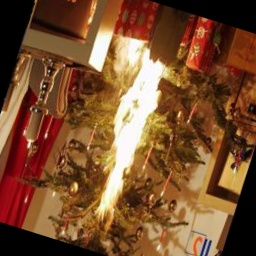fire: (66, 41, 174, 230)
